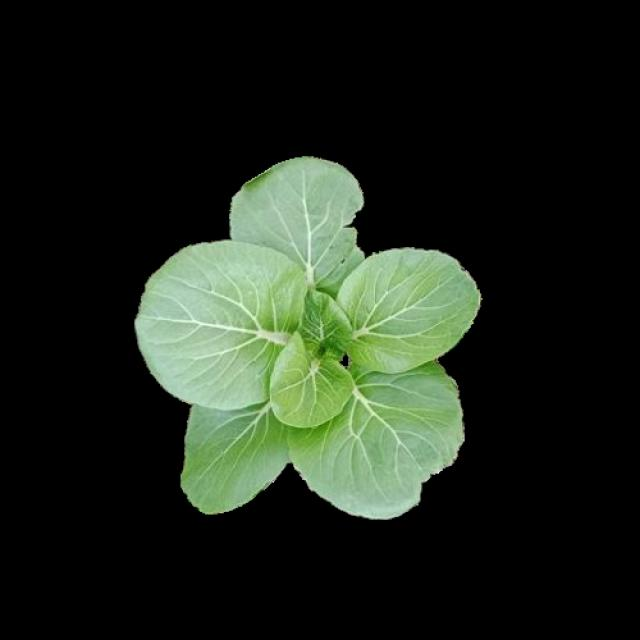not-mature: (132, 157, 481, 525)
unhealthy: (229, 158, 369, 272)
